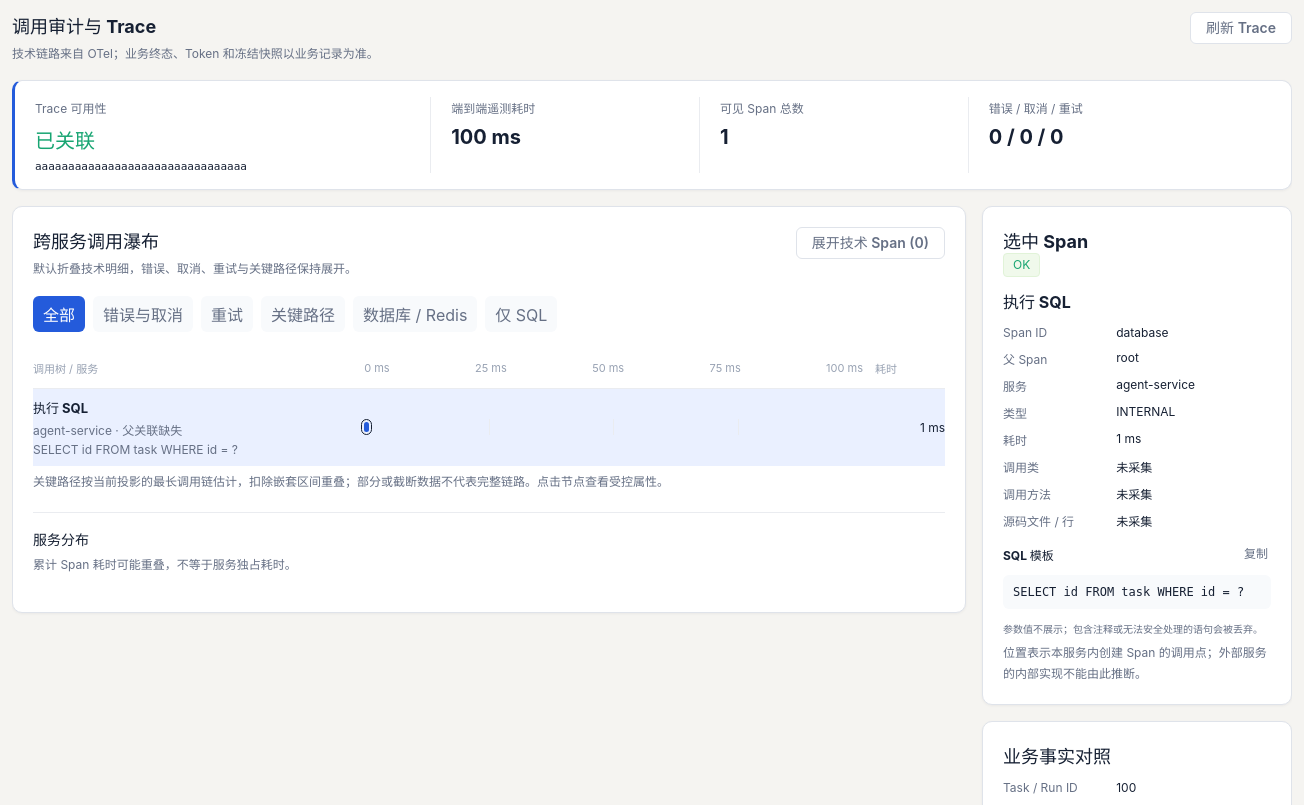
Test: technical Trace and authoritative facts › shows the safe SQL template for a database span and an unavailable state for older spans
Expected: the element with class "trace-sql" shows "SELECT id FROM task WHERE id = ?", [1013, 585, 1244, 599]
Click the button "刷新 Trace": (1241, 28) [1190, 12, 1292, 44]
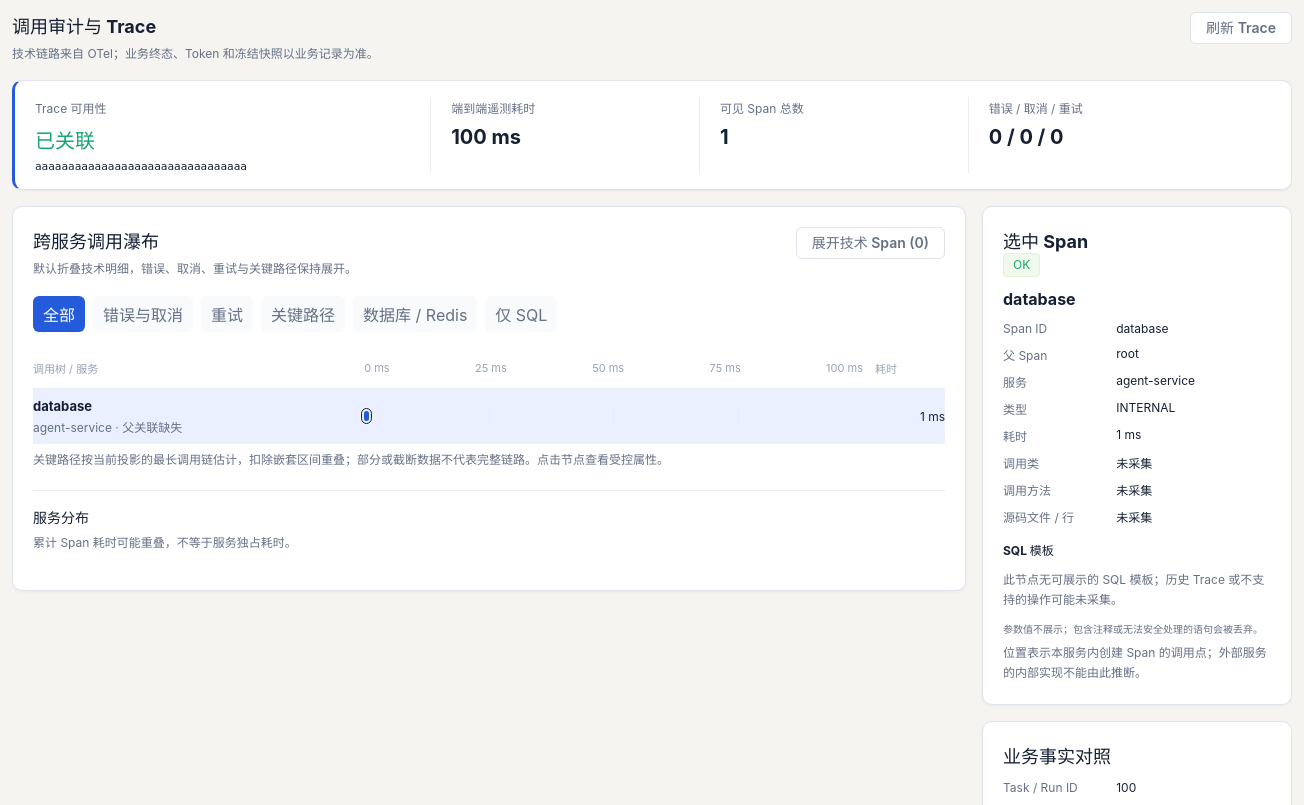
Expected: the element with class "trace-sql" shows "未采集", [1003, 541, 1271, 637]
